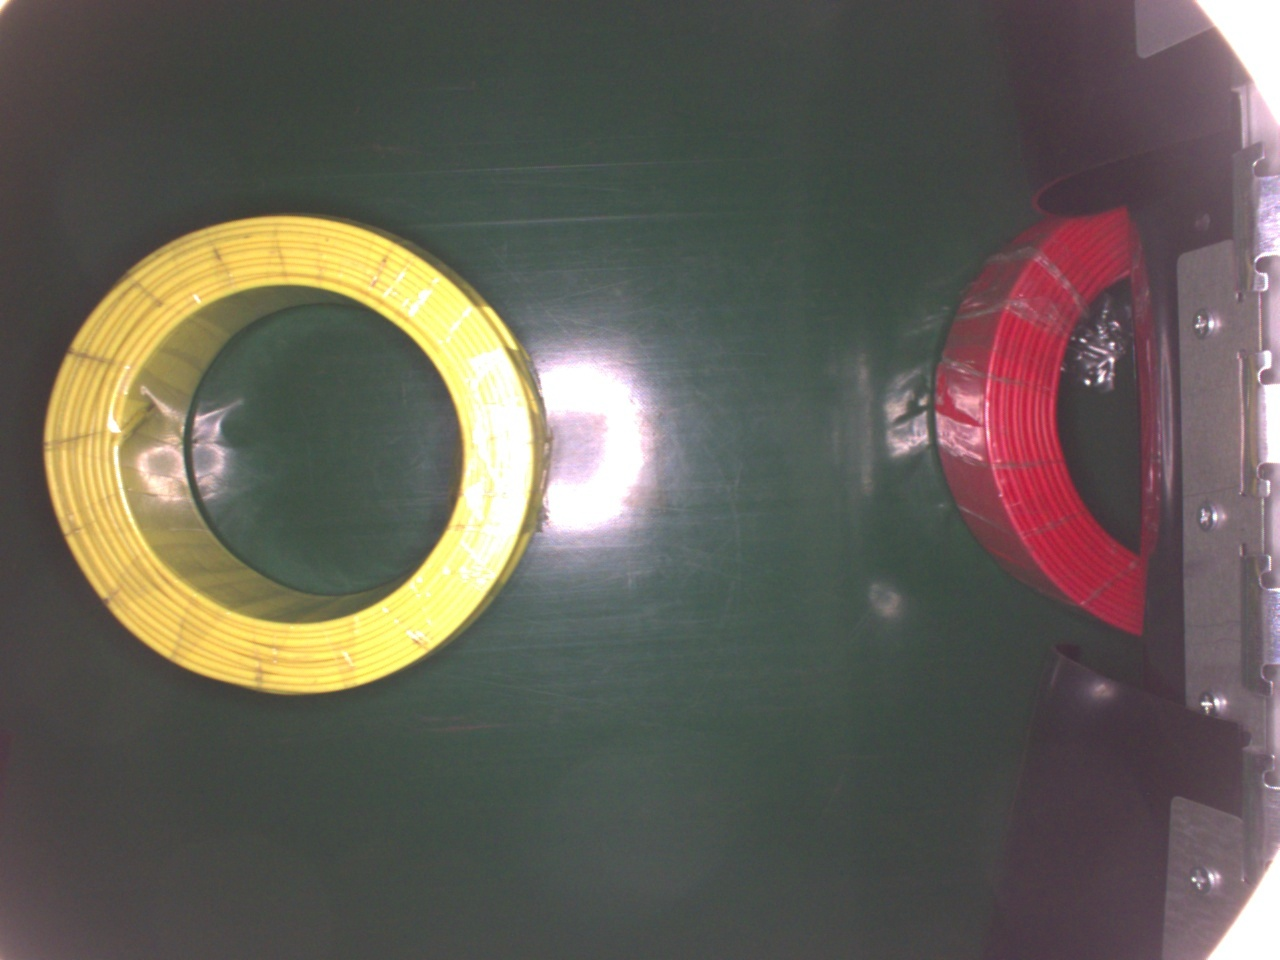red: (925, 207, 1148, 640)
yellow: (36, 211, 552, 698)
